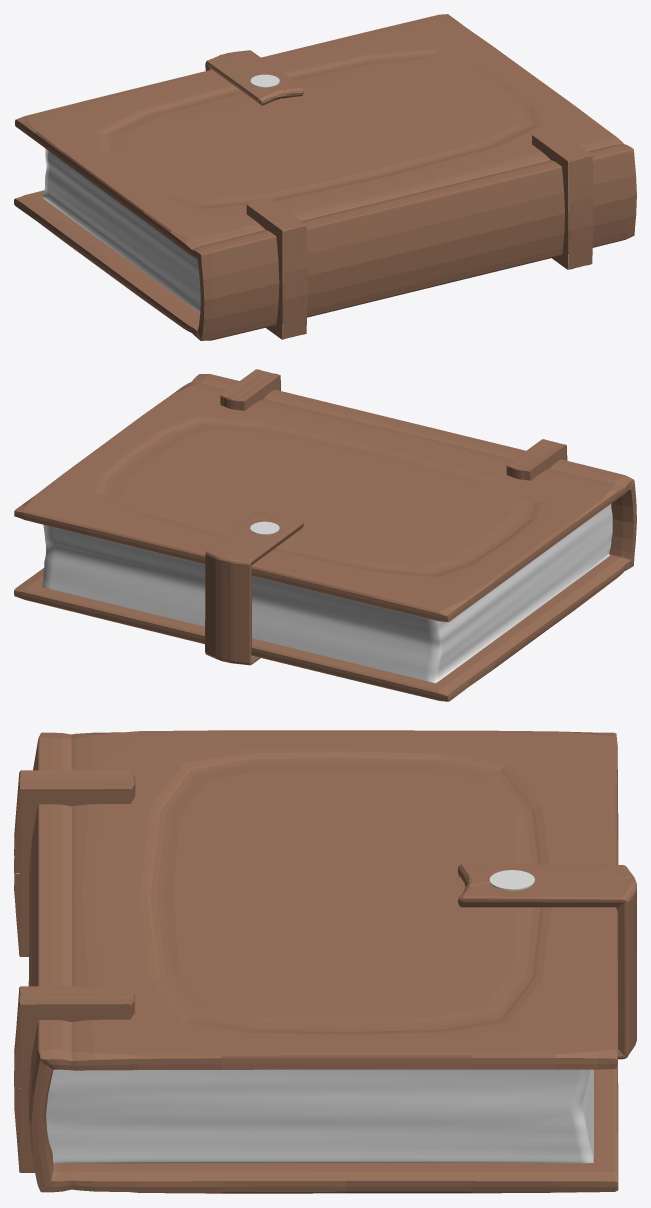
Rendered from book.fbx.
3 views of the same model, one above another, from view 1: azimuth 30°, elevation 25°; view 2: azimuth 150°, elevation 25°; view 3: azimuth 270°, elevation 25° (orthographic). The views are drawn at different scales.
Parts seen in each view (by area): view 1: Cube, Cube.002, Cube.001, Cube.003; view 2: Cube, Cube.001, Cube.003, Cube.002; view 3: Cube, Cube.001, Cube.002, Cube.003, Cylinder.
Part boxes in pixels (x1=…): Cube: x1=14, y1=14, x2=636, y2=340; Cube.002: x1=246, y1=129, x2=593, y2=339; Cube.001: x1=42, y1=148, x2=200, y2=312; Cube.003: x1=205, y1=50, x2=303, y2=105; Cube: x1=14, y1=374, x2=636, y2=701; Cube.001: x1=42, y1=504, x2=612, y2=683; Cube.003: x1=205, y1=511, x2=303, y2=665; Cube.002: x1=220, y1=369, x2=567, y2=480; Cube: x1=28, y1=730, x2=618, y2=1193; Cube.001: x1=46, y1=1069, x2=593, y2=1163; Cube.002: x1=14, y1=770, x2=135, y2=1172; Cube.003: x1=458, y1=864, x2=636, y2=1059; Cylinder: x1=489, y1=870, x2=534, y2=890.
Size of the model in its own units: 200 by 48.36 by 161.
